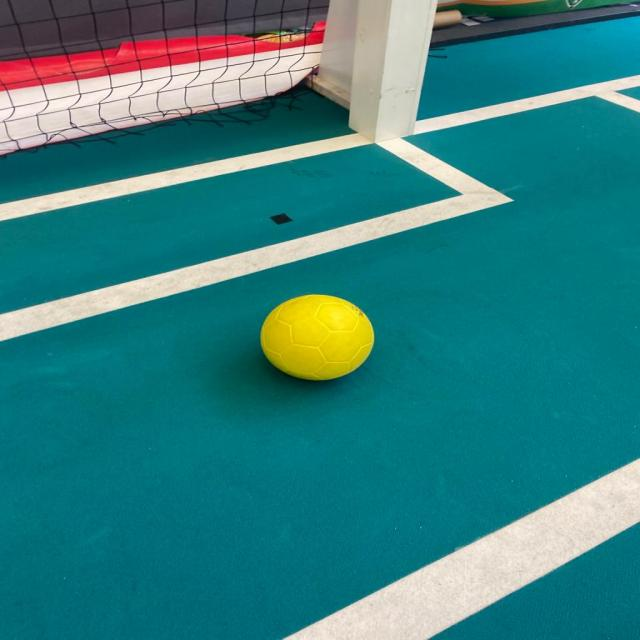ball: (254, 286, 382, 388)
